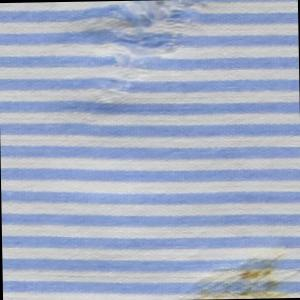Damage: (70, 1, 214, 129)
Oil Stain: (185, 245, 297, 300)
